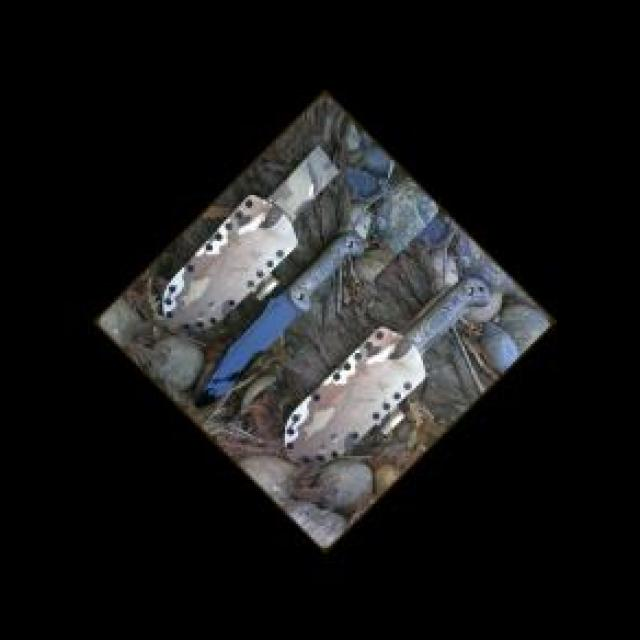knife: (195, 221, 373, 412)
